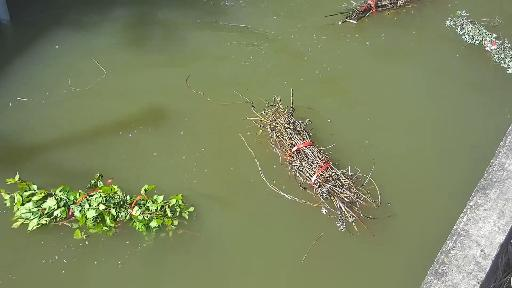twig: (190, 67, 376, 240), (0, 174, 209, 247), (436, 2, 512, 103), (332, 0, 431, 34)
